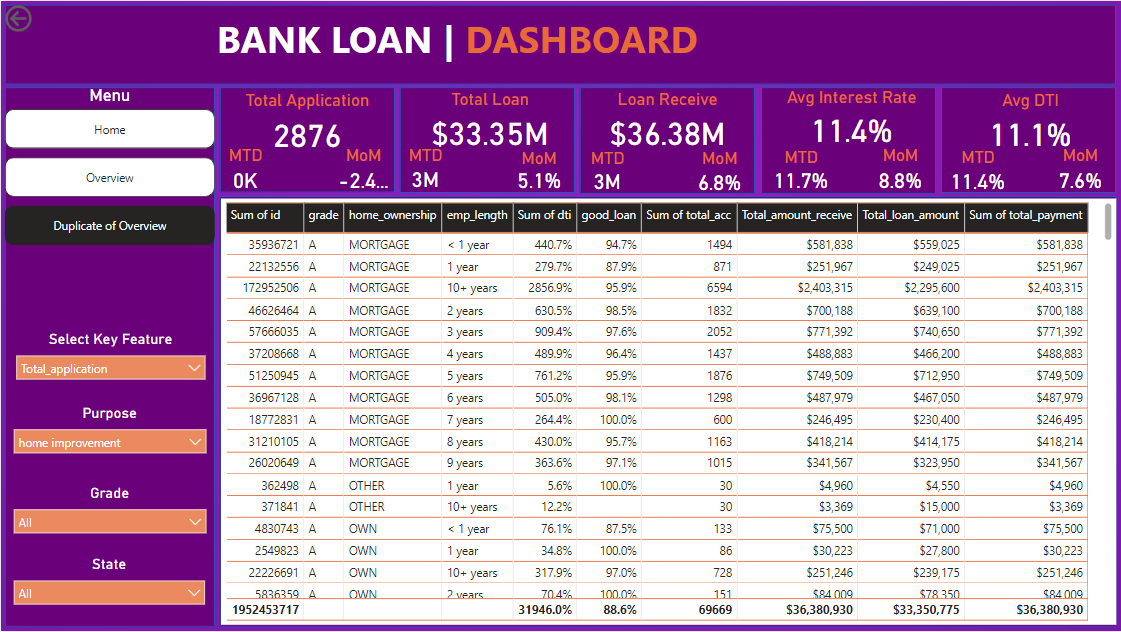

Layout of this report page (visuals, bound fields, positions):
{"tool":"powerbi","page":{"name":"Duplicate of Overview","canvas":[1280,720],"ordinal":2},"visuals":[{"type":"shape","box":[4.3,4.6,1270,91.1],"z":0},{"type":"textbox","box":[241.2,8.8,583.8,77.5],"z":1000},{"type":"shape","box":[4.3,98.6,240,617.1],"z":2000},{"type":"shape","box":[250,98.3,200,120.3],"z":3000},{"type":"card","title":"MTD","fields":{"Values":["financial_loan.CMT_application"]},"box":[250,166.2,58.8,55],"z":4000},{"type":"card","title":"Total Application","fields":{"Values":["financial_loan.Total_application"]},"box":[248.3,102.6,202.9,74.3],"z":5000},{"type":"card","title":"MoM","fields":{"Values":["financial_loan.MoM_application"]},"box":[378.8,166.2,71.2,55],"z":6000},{"type":"shape","box":[456.2,98.8,200,120.8],"z":7000},{"type":"card","title":"Total Loan","fields":{"Values":["Sum(financial_loan.loan_amount)"]},"box":[471.7,101.7,175,72.5],"z":8000},{"type":"card","title":"MTD","fields":{"Values":["financial_loan.CMT_loan_amount"]},"box":[455,166.2,58.8,53.8],"z":9000},{"type":"card","title":"MoM","fields":{"Values":["financial_loan.MoM_loan_amount"]},"box":[573.8,168.8,81.2,51.5],"z":10000},{"type":"shape","box":[661.2,98.8,200,121.7],"z":11000},{"type":"shape","box":[868.8,98.8,200,121.7],"z":12000},{"type":"shape","box":[1073.8,98.8,200,120.8],"z":13000},{"type":"card","title":"Loan Receive","fields":{"Values":["Sum(financial_loan.total_payment)"]},"box":[678.3,101.7,166.2,73.8],"z":14000},{"type":"card","title":"MTD","fields":{"Values":["financial_loan.CMT_loan_back"]},"box":[663.8,168.8,57.5,52.5],"z":15000},{"type":"card","title":"MoM","fields":{"Values":["financial_loan.MoM_loan_back"]},"box":[780,168.5,82.5,55.3],"z":16000},{"type":"card","title":"Avg Interest Rate","fields":{"Values":["Avg(financial_loan.int_rate)"]},"box":[891.4,98.6,161.4,72.9],"z":17000},{"type":"card","title":"MTD","fields":{"Values":["financial_loan.CMT_int_rate"]},"box":[870,167.5,88.8,53.8],"z":18000},{"type":"card","title":"MoM","fields":{"Values":["financial_loan.MoM_int_rate"]},"box":[987.5,166.2,81.2,55],"z":19000},{"type":"card","title":"Avg DTI","fields":{"Values":["Avg(financial_loan.dti)"]},"box":[1104.6,103.1,144.3,72.9],"z":20000},{"type":"card","title":"MTD","fields":{"Values":["financial_loan.CMT_dti"]},"box":[1076.2,167.5,81.2,55],"z":21000},{"type":"card","title":"MoM","fields":{"Values":["financial_loan.MoM_dti"]},"box":[1192.5,166.2,81.2,55],"z":22000},{"type":"shape","box":[249.7,223.2,1024.8,492.2],"z":23000},{"type":"slicer","title":"Purpose","fields":{"Values":["financial_loan.purpose"]},"box":[3.8,460,240,81.2],"z":24000},{"type":"slicer","title":"Grade","fields":{"Values":["financial_loan.grade"]},"box":[3.8,551.2,240,67.5],"z":25000},{"type":"slicer","title":"State","fields":{"Values":["financial_loan.address_state"]},"box":[3.8,633,238.8,83.8],"z":26000},{"type":"pageNavigator","title":"Menu","box":[3.8,96.5,240,182.5],"z":27000},{"type":"slicer","title":"Select Key Feature","fields":{"Values":["Select.Select"]},"box":[7.5,375,236.2,76.2],"z":28000},{"type":"actionButton","box":[0,0,100,40],"z":30000},{"type":"tableEx","fields":{"Values":["Sum(financial_loan.id)","financial_loan.grade","financial_loan.home_ownership","financial_loan.emp_length","Sum(financial_loan.dti)","financial_loan.good_loan","Sum(financial_loan.total_acc)","financial_loan.Total_amount_receive","financial_loan.Total_loan_amount","Sum(financial_loan.total_payment)"]},"box":[251.4,225.7,1023.4,487.4],"z":30001}]}

Visuals, with their boxes in screenshot pixels (x1, y1, x2, y2), scaled from the page's 1280x720 canvas onto the 1121x632 screenshot:
shape: <box>4,4,1116,84</box>
textbox: <box>211,8,723,76</box>
shape: <box>4,87,214,628</box>
shape: <box>219,86,394,192</box>
"MTD" card: <box>219,146,270,194</box>
"Total Application" card: <box>217,90,395,155</box>
"MoM" card: <box>332,146,394,194</box>
shape: <box>400,87,575,193</box>
"Total Loan" card: <box>413,89,566,153</box>
"MTD" card: <box>398,146,450,193</box>
"MoM" card: <box>503,148,574,193</box>
shape: <box>579,87,754,194</box>
shape: <box>761,87,936,194</box>
shape: <box>940,87,1116,193</box>
"Loan Receive" card: <box>594,89,740,154</box>
"MTD" card: <box>581,148,632,194</box>
"MoM" card: <box>683,148,755,196</box>
"Avg Interest Rate" card: <box>781,87,922,151</box>
"MTD" card: <box>762,147,840,194</box>
"MoM" card: <box>865,146,936,194</box>
"Avg DTI" card: <box>967,90,1094,154</box>
"MTD" card: <box>943,147,1014,195</box>
"MoM" card: <box>1044,146,1115,194</box>
shape: <box>219,196,1116,628</box>
"Purpose" slicer: <box>3,404,214,475</box>
"Grade" slicer: <box>3,484,214,543</box>
"State" slicer: <box>3,556,212,629</box>
"Menu" pageNavigator: <box>3,85,214,245</box>
"Select Key Feature" slicer: <box>7,329,213,396</box>
actionButton: <box>0,0,88,35</box>
tableEx - Sum(financial_loan.id) x financial_loan.grade: <box>220,198,1116,626</box>
